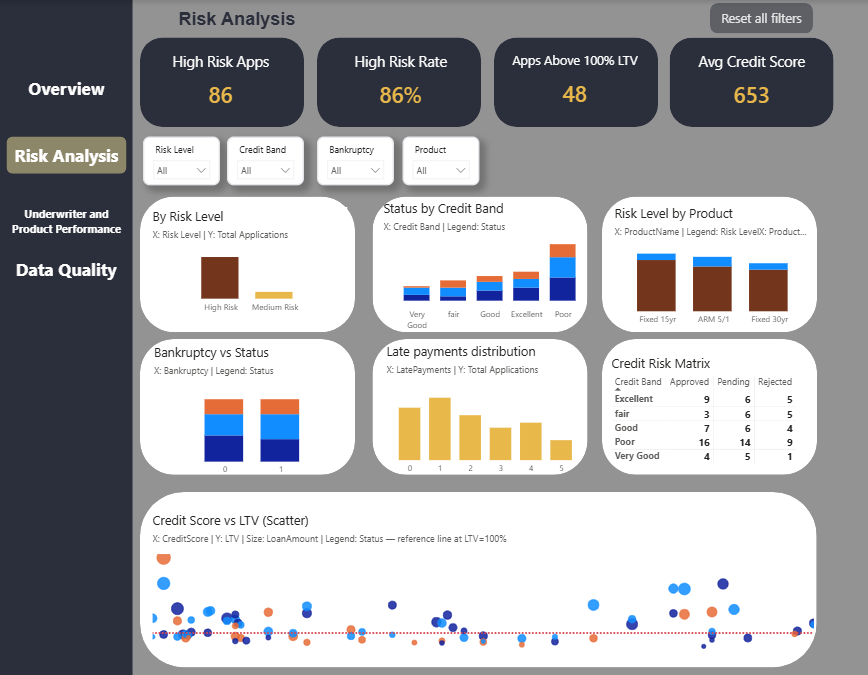

Layout of this report page (visuals, bound fields, positions):
{"tool":"powerbi","page":{"name":"Risk Analysis","canvas":[1280,1000],"ordinal":1},"visuals":[{"type":"shape","box":[0,0,196.7,1000],"z":0},{"type":"actionButton","box":[11.1,101.1,176.7,55.6],"z":1000},{"type":"actionButton","box":[11.7,201.7,176.7,55],"z":2000},{"type":"actionButton","box":[11.7,288.3,176.7,71.7],"z":3000},{"type":"textbox","title":"fdg","box":[211.7,3.5,276.7,45],"z":4000},{"type":"shape","box":[208.3,55,241.7,131.7],"z":5000},{"type":"cardVisual","fields":{"Data":["Mesures.High Risk Applications"]},"box":[220,71.7,211.7,100],"z":6000},{"type":"slicer","fields":{"Values":["FactApplications.Risk_level"]},"box":[211.7,201.7,113.3,71.7],"z":7000},{"type":"slicer","fields":{"Values":["DimApplicants.Credit Band"]},"box":[336.7,201.7,113.3,71.7],"z":8000},{"type":"slicer","fields":{"Values":["DimApplicants.CreditHistory.Bankruptcy"]},"box":[468.3,201.7,113.3,71.7],"z":9000},{"type":"slicer","fields":{"Values":["DimProducts.ProductName"]},"box":[595,201.7,113.3,71.7],"z":10000},{"type":"shape","box":[1046.7,3.5,151.7,45],"z":11000},{"type":"shape","box":[468.3,55,241.7,131.7],"z":12000},{"type":"shape","box":[728.3,55,241.7,131.7],"z":13000},{"type":"shape","box":[988.3,55,241.7,131.7],"z":14000},{"type":"cardVisual","fields":{"Data":["Mesures.High Risk Rate"]},"box":[485,71.7,211.7,100],"z":15000},{"type":"cardVisual","fields":{"Data":["Mesures.Applications Above 100% LTV"]},"box":[743.3,71.7,211.7,100],"z":16000},{"type":"cardVisual","fields":{"Data":["Mesures.Average Credit Score"]},"box":[1003.3,71.7,211.7,100],"z":17000},{"type":"shape","box":[208.3,288.3,316.7,200],"z":18000},{"type":"shape","box":[550,288.3,316.7,200],"z":19000},{"type":"shape","box":[888.3,288.3,316.7,200],"z":20000},{"type":"shape","box":[208.3,500,316.7,200],"z":21000},{"type":"shape","box":[550,500,316.7,200],"z":22000},{"type":"shape","box":[888.3,500,316.7,200],"z":23000},{"type":"shape","box":[208.3,725,996.7,258.3],"z":24000},{"type":"clusteredColumnChart","title":"By Risk Level","fields":{"Category":["FactApplications.Risk_level"],"Y":["Mesures.Total Applications"]},"box":[220,305,291.7,165],"z":25000},{"type":"columnChart","title":"Status by Credit Band","fields":{"Category":["DimApplicants.Credit Band"],"Series":["FactApplications.Status"],"Y":["Mesures.Total Applications"]},"box":[562,294,316,200],"z":26000},{"type":"columnChart","title":"Risk Level by Product","fields":{"Y":["Mesures.Total Applications"],"Category":["DimProducts.ProductName"],"Series":["FactApplications.Risk_level"]},"box":[902,300,302,188],"z":27000},{"type":"columnChart","title":"Bankruptcy vs Status","fields":{"Y":["Mesures.Total Applications"],"Category":["DimApplicants.CreditHistory.Bankruptcy"],"Series":["FactApplications.Status"]},"box":[224,506,302,204],"z":28000},{"type":"clusteredColumnChart","title":"Late payments distribution","fields":{"Y":["Mesures.Total Applications"],"Category":["DimApplicants.CreditHistory.LatePayments"]},"box":[566,504,302,204],"z":29000},{"type":"pivotTable","title":"Credit Risk Matrix","fields":{"Rows":["DimApplicants.Credit Band"],"Columns":["FactApplications.Status"],"Values":["Mesures.Total Applications"]},"box":[896,522,308,178],"z":30000},{"type":"scatterChart","title":"Credit Score vs LTV (Scatter)","fields":{"Y":["Sum(FactApplications.LTV)"],"X":["Sum(DimApplicants.CreditHistory.CreditScore)"],"Size":["Sum(FactApplications.LoanAmount)"],"Series":["FactApplications.Status"],"Category":["DimApplicants.ApplicantID"]},"box":[220,754,984,208],"z":31000},{"type":"actionButton","box":[10,360,176,72],"z":32000}]}

Visuals, with their boxes on the page's 1280x1000 design canvas (x1, y1, x2, y2). These are canvas units, not pixel positions in the 868x675 screenshot, which may show the page scaled, cropped or inside an application window:
shape: region(0, 0, 197, 1000)
actionButton: region(11, 101, 188, 157)
actionButton: region(12, 202, 188, 257)
actionButton: region(12, 288, 188, 360)
"fdg" textbox: region(212, 4, 488, 48)
shape: region(208, 55, 450, 187)
cardVisual - Mesures.High Risk Applications: region(220, 72, 432, 172)
slicer - FactApplications.Risk_level: region(212, 202, 325, 273)
slicer - DimApplicants.Credit Band: region(337, 202, 450, 273)
slicer - DimApplicants.CreditHistory.Bankruptcy: region(468, 202, 582, 273)
slicer - DimProducts.ProductName: region(595, 202, 708, 273)
shape: region(1047, 4, 1198, 48)
shape: region(468, 55, 710, 187)
shape: region(728, 55, 970, 187)
shape: region(988, 55, 1230, 187)
cardVisual - Mesures.High Risk Rate: region(485, 72, 697, 172)
cardVisual - Mesures.Applications Above 100% LTV: region(743, 72, 955, 172)
cardVisual - Mesures.Average Credit Score: region(1003, 72, 1215, 172)
shape: region(208, 288, 525, 488)
shape: region(550, 288, 867, 488)
shape: region(888, 288, 1205, 488)
shape: region(208, 500, 525, 700)
shape: region(550, 500, 867, 700)
shape: region(888, 500, 1205, 700)
shape: region(208, 725, 1205, 983)
"By Risk Level" clusteredColumnChart: region(220, 305, 512, 470)
"Status by Credit Band" columnChart: region(562, 294, 878, 494)
"Risk Level by Product" columnChart: region(902, 300, 1204, 488)
"Bankruptcy vs Status" columnChart: region(224, 506, 526, 710)
"Late payments distribution" clusteredColumnChart: region(566, 504, 868, 708)
"Credit Risk Matrix" pivotTable: region(896, 522, 1204, 700)
"Credit Score vs LTV (Scatter)" scatterChart: region(220, 754, 1204, 962)
actionButton: region(10, 360, 186, 432)
